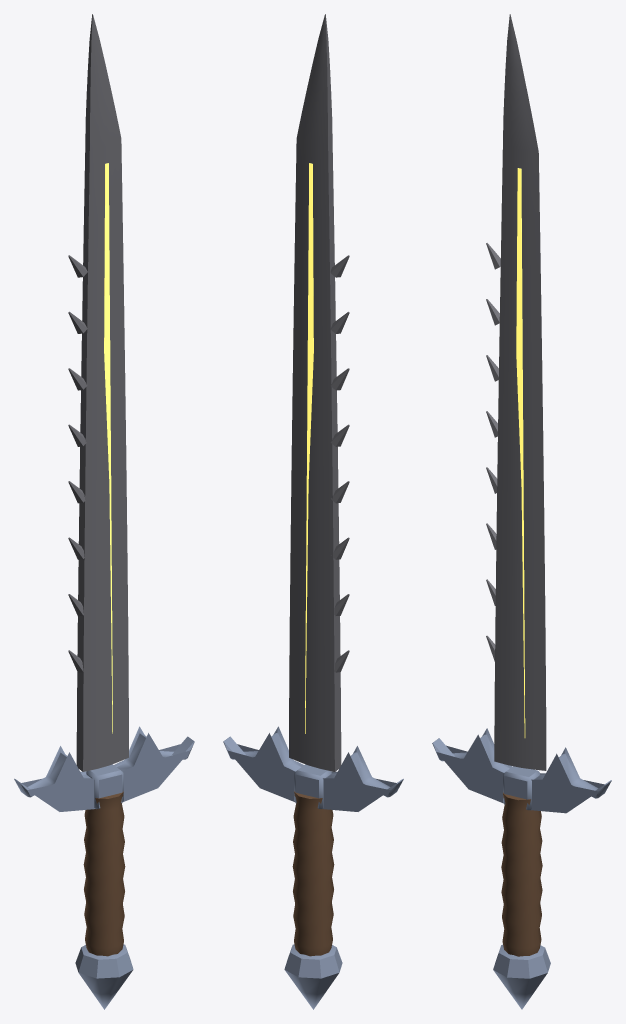
File: depth_rootguard_falchion.glb
The picture shows the model from 3 angles, left to right: view 1: azimuth 30°, elevation 25°; view 2: azimuth 150°, elevation 25°; view 3: azimuth 330°, elevation 25°; orthographic projection.
Visible parts, largest first — view 1: depth_rootguard_falchion; view 2: depth_rootguard_falchion; view 3: depth_rootguard_falchion.
Part boxes in pixels (x1,y1,x2,y2): depth_rootguard_falchion: (14, 14, 194, 1009); depth_rootguard_falchion: (223, 14, 403, 1009); depth_rootguard_falchion: (432, 14, 611, 1009).
Bounding box in the file's own units: 0.1802 × 0.9876 × 0.054.
